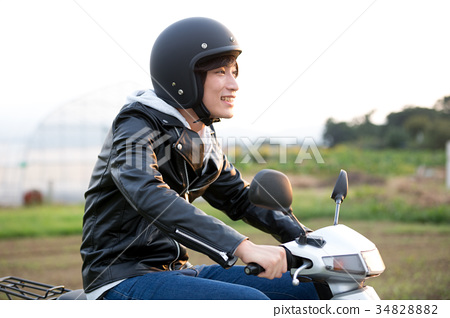helmet: (140, 23, 241, 96)
